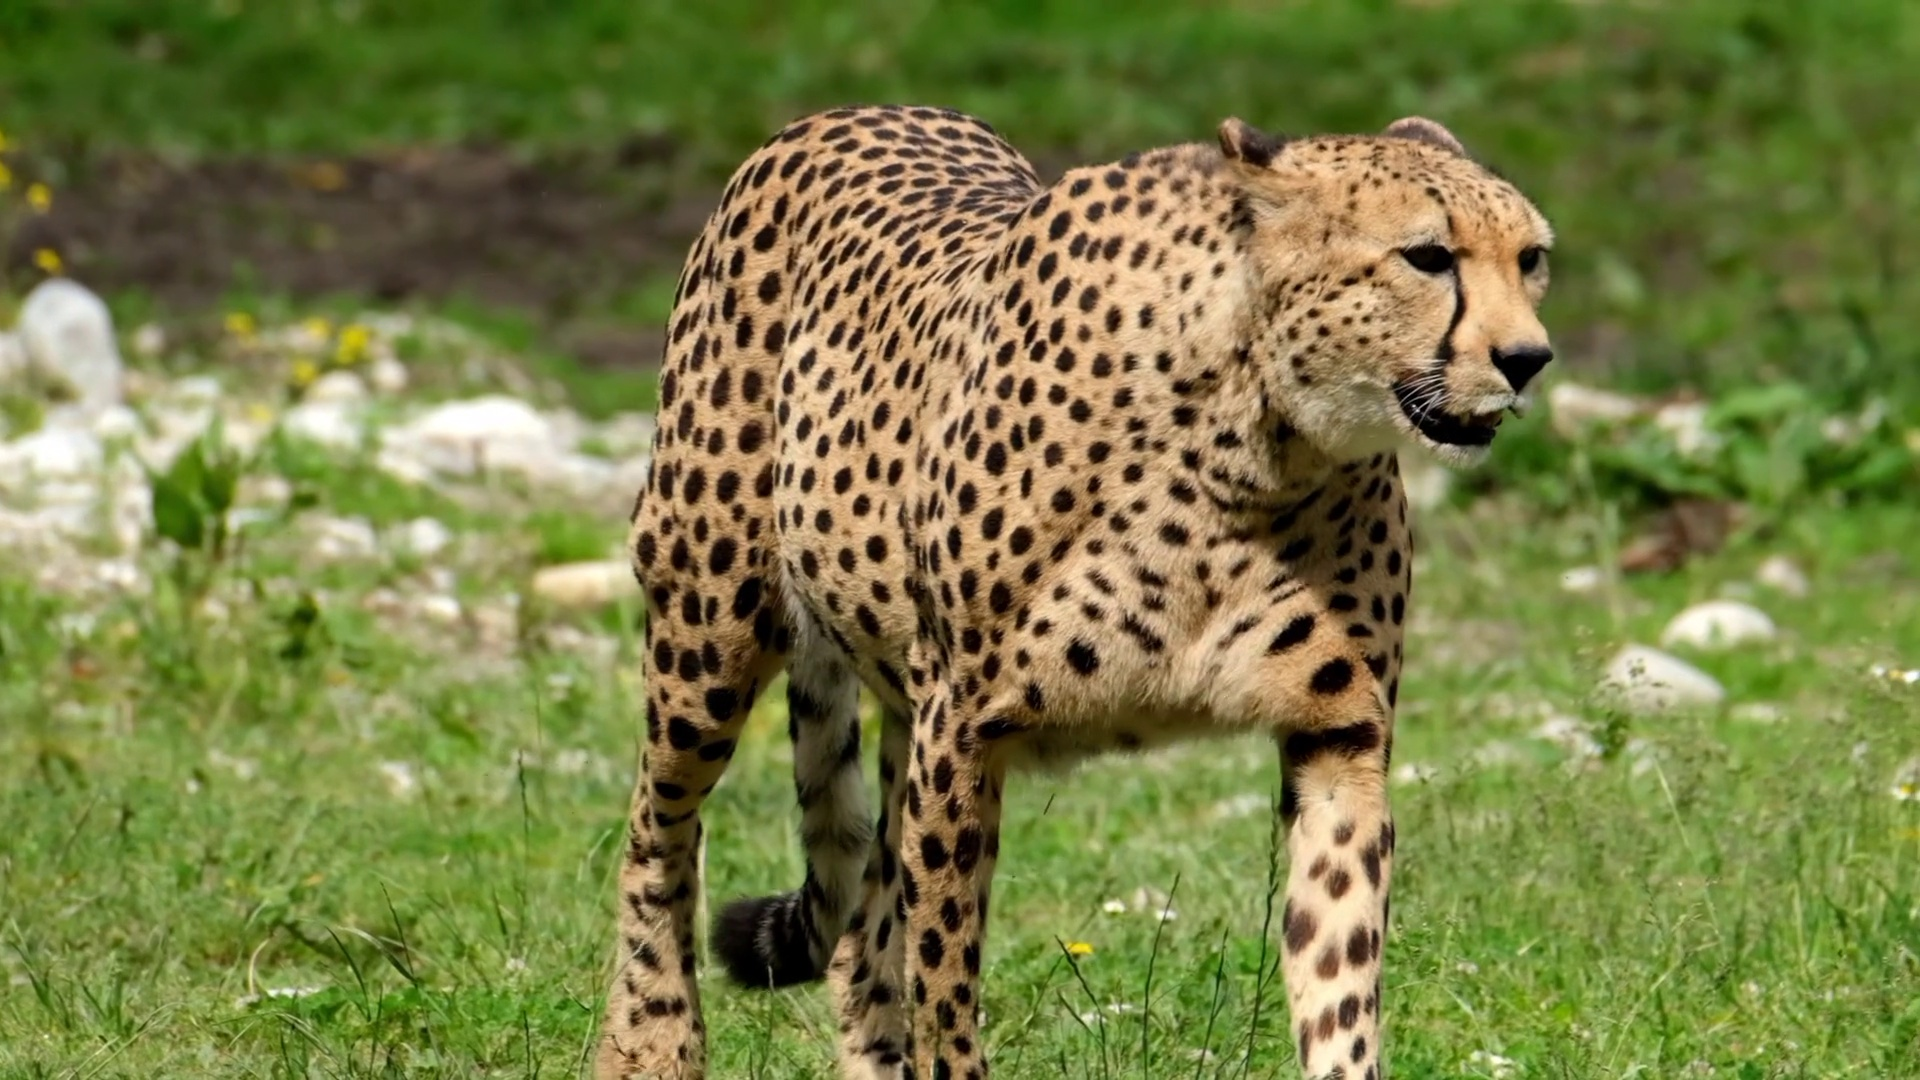Cheetah: (585, 91, 1563, 1080)
